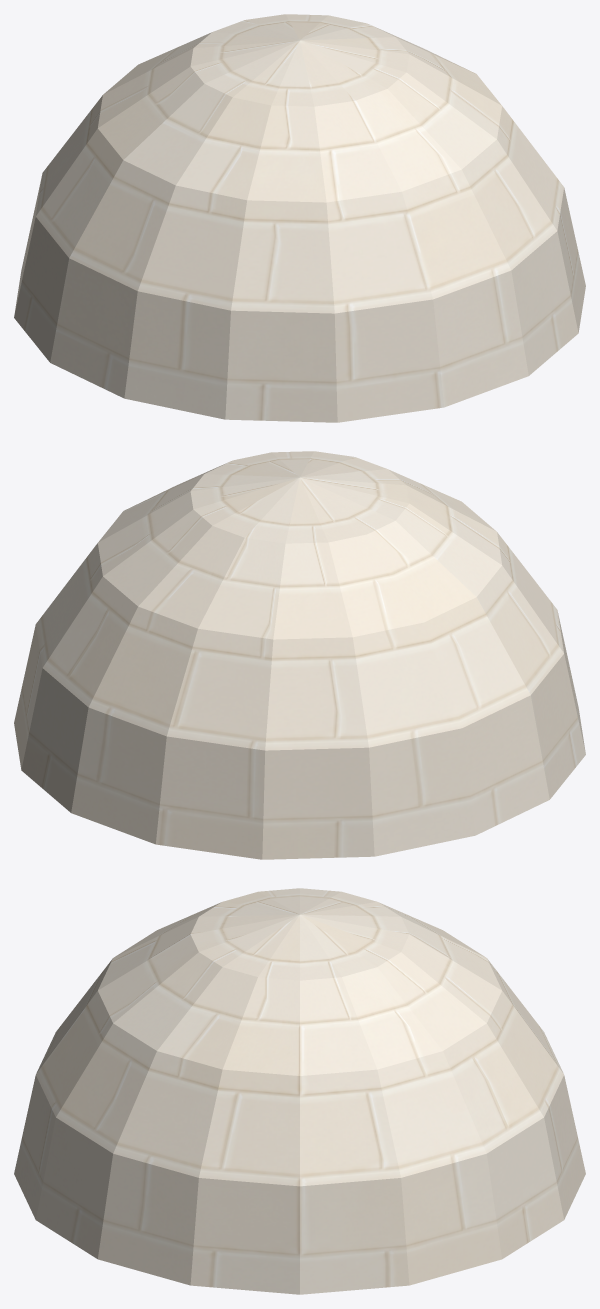
The model's file is tile.gltf.
The picture shows the model from 3 angles, top to bottom: view 1: azimuth 30°, elevation 25°; view 2: azimuth 150°, elevation 25°; view 3: azimuth 270°, elevation 25°; orthographic projection.
Visible parts, largest first — view 1: 球; view 2: 球; view 3: 球.
Part boxes in pixels (box(x1,y1,x2,y2)): 球: box(14, 14, 585, 422); 球: box(14, 451, 585, 859); 球: box(14, 888, 585, 1294).
Size of the model in its own units: 20 by 10 by 20.
1 material, 1 textured.
